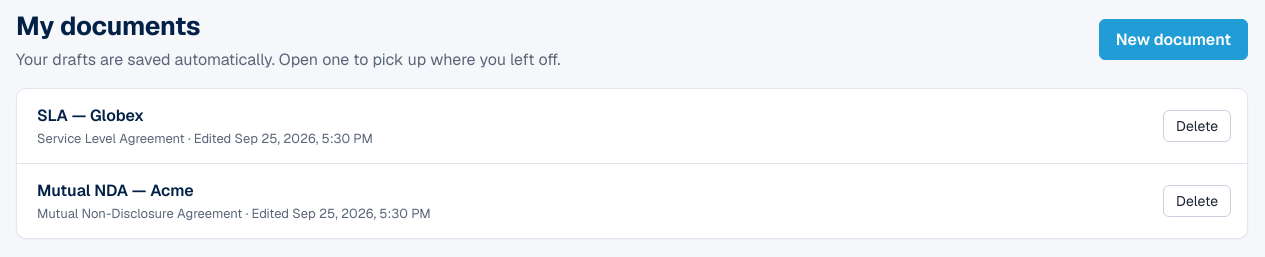
Test case: MyDocuments › deletes a draft only after confirmation
Step 1. Click the button with aria-label "Delete SLA — Globex" → click(1197, 126), box [1163, 110, 1231, 142]
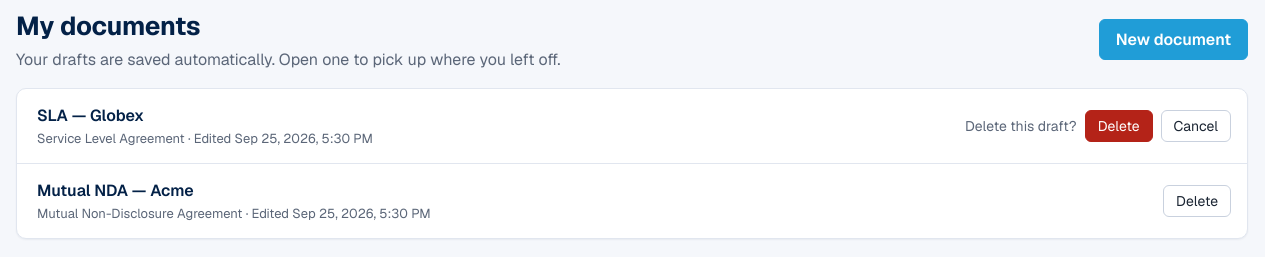
Step 2. Click the button "Cancel" → click(1196, 126), box [1161, 110, 1231, 142]
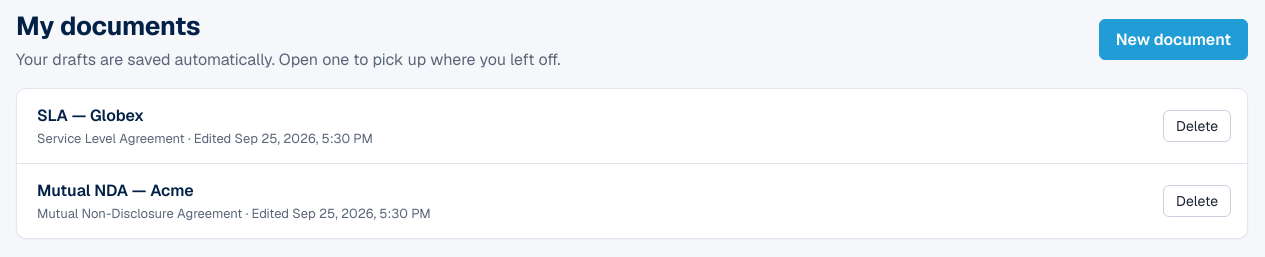
Step 3. Click the button with aria-label "Delete SLA — Globex" → click(1197, 126), box [1163, 110, 1231, 142]
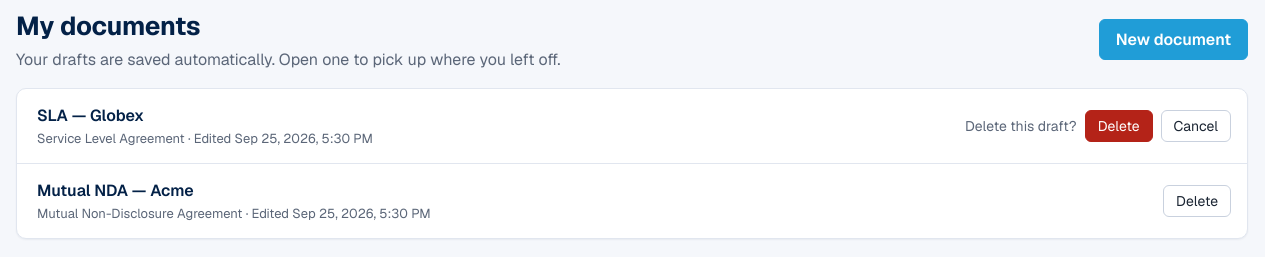
Step 4. Click the button "Delete" next to "Delete this draft?" → click(1119, 126), box [1085, 110, 1153, 142]
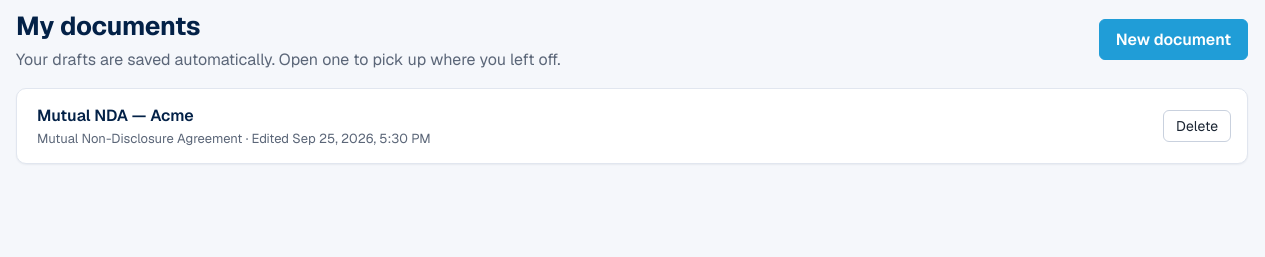
Expected: the number of list items is 1, [17, 89, 1247, 163]
Expected: the button "SLA — Globex" is gone
